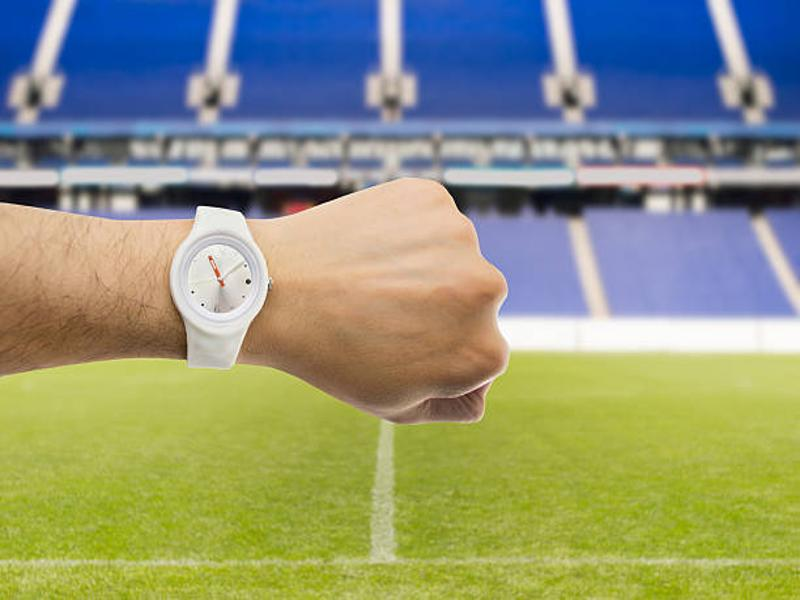watch: (169, 207, 274, 370)
